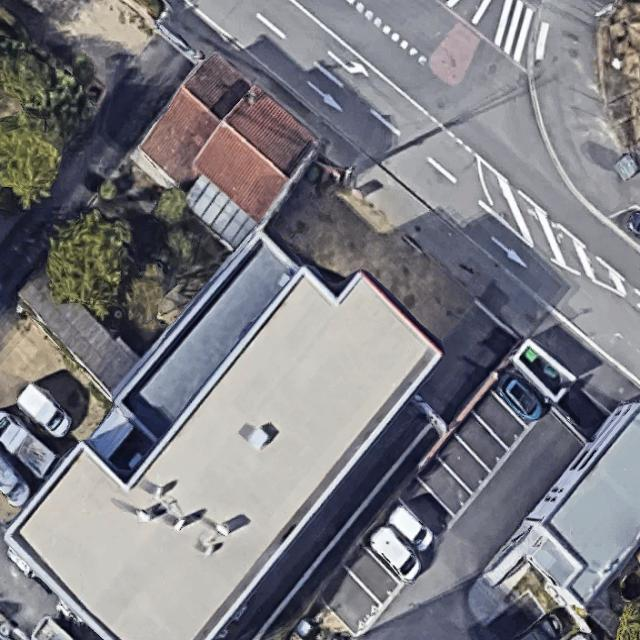immeuble: (0, 202, 455, 640), (509, 390, 640, 604)
maison: (127, 49, 326, 246)
